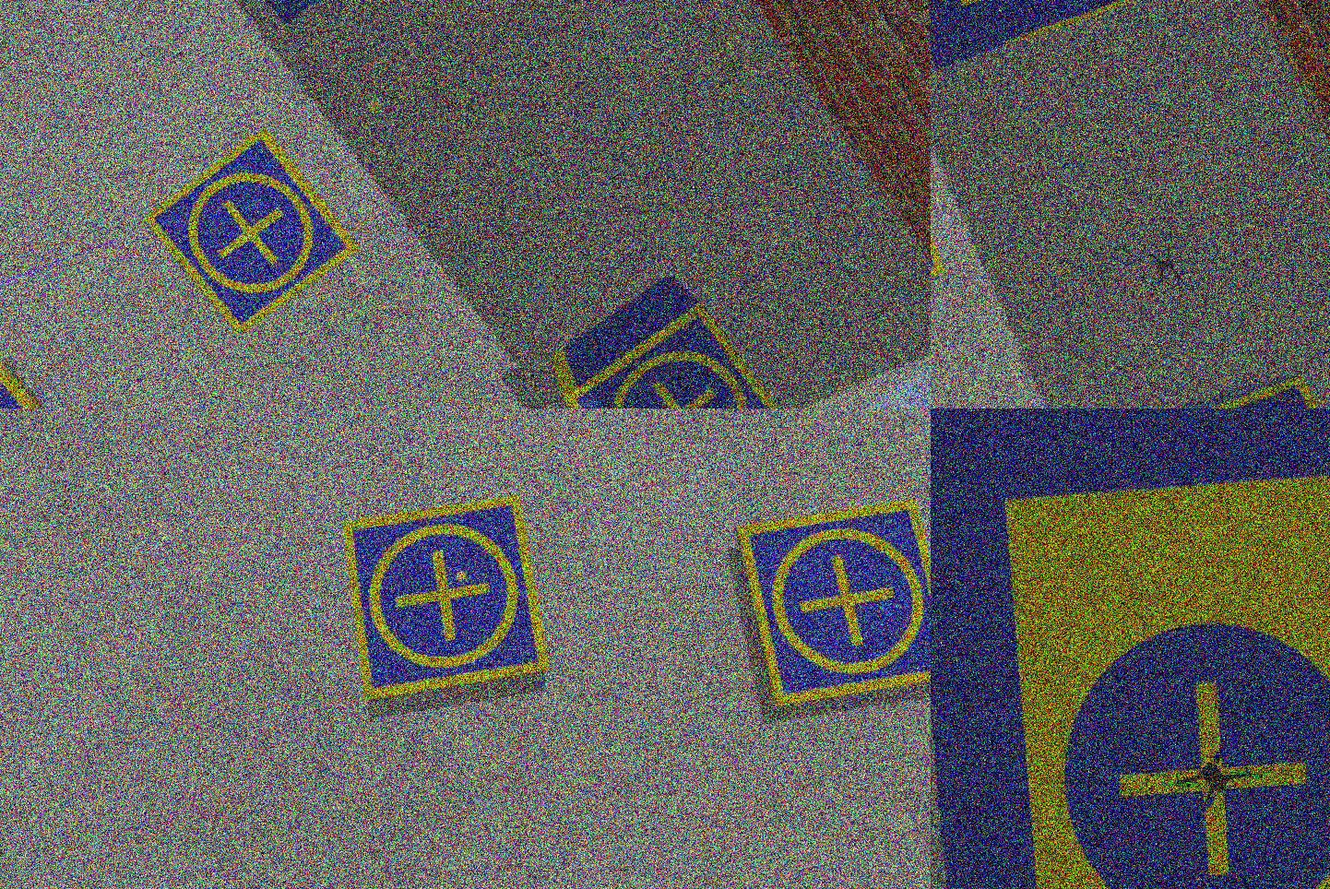large_base: (931, 409, 1330, 889), (931, 1, 1207, 68)
small_base: (143, 128, 363, 343), (343, 495, 552, 708), (733, 495, 931, 713), (564, 302, 795, 409), (1, 362, 100, 409)
